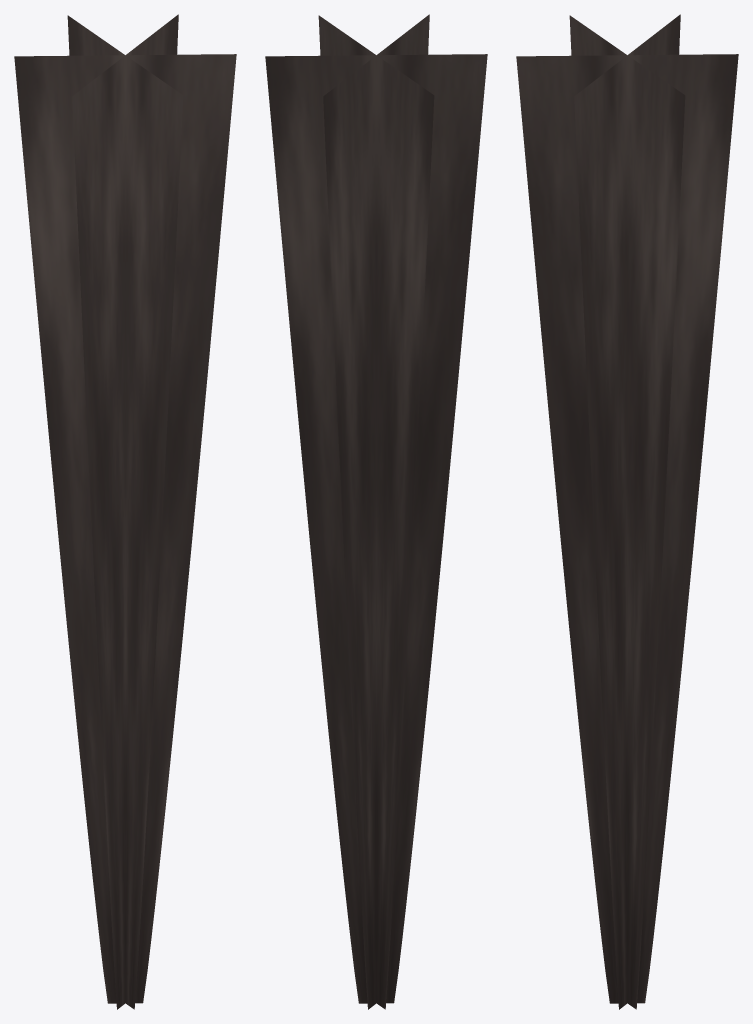
Rendered from trail_smoke.glb.
3 renders of one model, left to right at view 1: azimuth 30°, elevation 25°; view 2: azimuth 150°, elevation 25°; view 3: azimuth 270°, elevation 25°, orthographic.
Parts seen in each view (by area): view 1: smoke; view 2: smoke; view 3: smoke.
Boxes of the visible parts, x1,y1,x2,y2 form: smoke: [14, 14, 236, 1009]; smoke: [265, 14, 487, 1009]; smoke: [516, 14, 738, 1009].
Size of the model in its own units: 17.73 by 95 by 20.19.
Materials: 1 (1 with a texture image).
